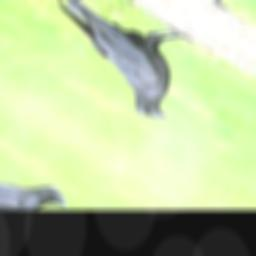Crow: (15, 0, 230, 126)
